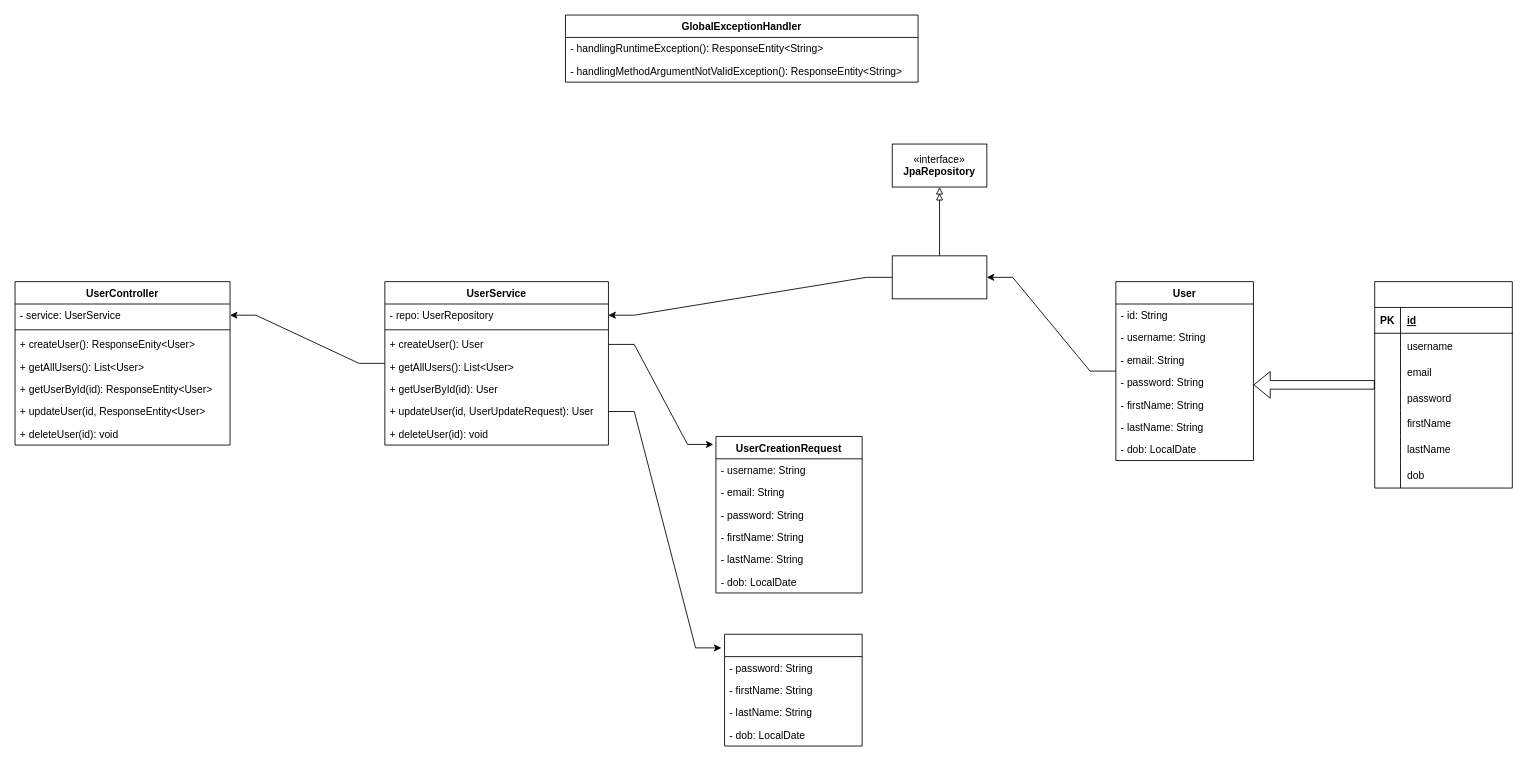
This 1527x764 diagram has some shape labels left out. The shapes that lost their labels are listed below. From the top down, each one's box as (x1, y1, x2, y2) in pixels, then its label:
(891, 255, 987, 299): «interface» UserRepository
(1374, 281, 1512, 488): users
(724, 633, 862, 746): UserUpdateRequest
